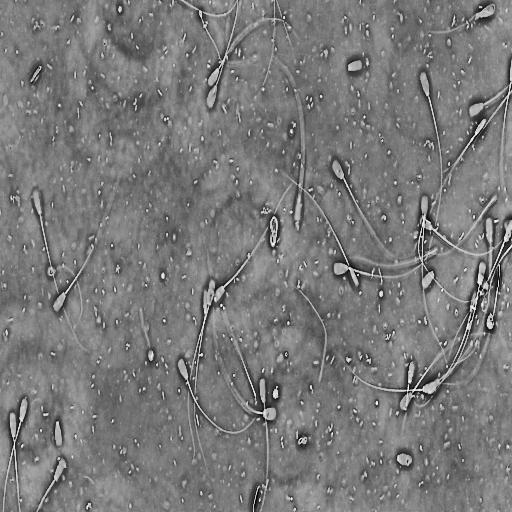coiled-tail: (428, 2, 497, 36), (270, 217, 278, 246)
dirt-particles: (145, 344, 156, 363), (297, 433, 309, 448), (271, 385, 280, 401)
folded-tail: (404, 330, 476, 410)
loose-head: (420, 268, 437, 292), (53, 417, 64, 450), (395, 450, 414, 469), (346, 57, 364, 74)
loose-tail: (417, 207, 479, 303), (292, 280, 329, 386)
normal: (412, 261, 486, 409), (277, 168, 362, 293), (51, 172, 123, 317), (213, 184, 292, 302), (33, 190, 90, 353), (331, 155, 407, 263), (206, 14, 303, 88), (175, 353, 261, 435), (269, 52, 307, 232), (427, 115, 488, 219), (404, 333, 479, 410), (212, 336, 277, 422), (420, 192, 449, 372), (334, 347, 438, 395), (418, 69, 443, 259), (417, 212, 512, 258), (204, 0, 240, 112), (194, 280, 216, 459), (2, 393, 30, 512), (332, 253, 429, 281), (430, 4, 495, 33), (257, 374, 270, 512), (259, 0, 276, 94), (8, 408, 22, 512), (268, 213, 280, 250)
